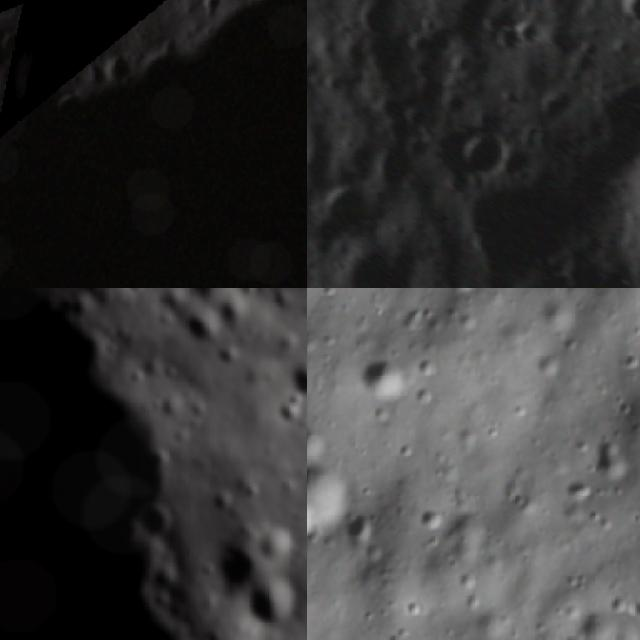crater: (307, 444, 361, 547), (352, 346, 418, 409), (307, 184, 372, 241), (215, 536, 272, 596), (334, 248, 410, 288), (84, 40, 138, 96), (251, 576, 305, 632), (588, 426, 640, 481), (0, 8, 31, 89), (460, 129, 506, 177), (406, 16, 451, 59), (342, 500, 380, 546), (375, 144, 413, 189), (534, 85, 571, 125), (357, 0, 397, 36), (416, 501, 452, 538), (287, 352, 307, 404), (617, 0, 640, 31), (307, 493, 320, 547), (491, 26, 517, 49), (378, 95, 400, 122), (518, 20, 537, 51), (442, 288, 491, 300), (576, 43, 598, 63)
